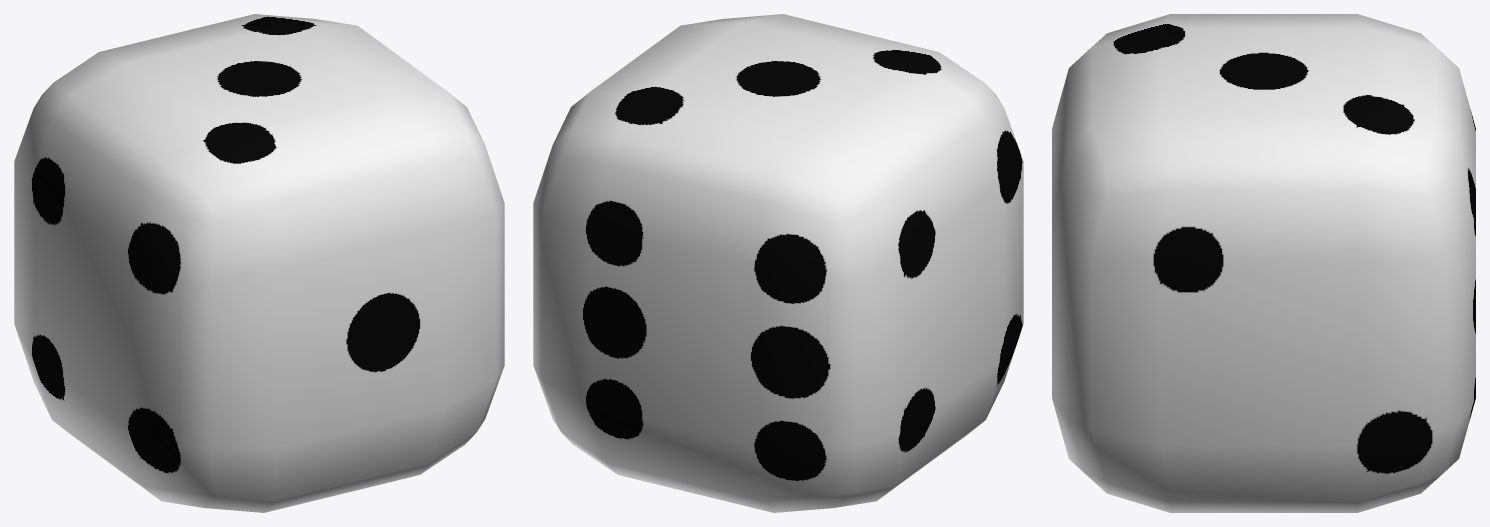
The model's file is die_scene.glb.
3 views of the same model, side by side, from view 1: azimuth 30°, elevation 25°; view 2: azimuth 150°, elevation 25°; view 3: azimuth 270°, elevation 25° (orthographic). The views are drawn at different scales.
Parts seen in each view (by area): view 1: Cube.001; view 2: Cube.001; view 3: Cube.001.
Boxes of the visible parts, x1=… form: Cube.001: x1=14, y1=14, x2=504, y2=512; Cube.001: x1=533, y1=14, x2=1023, y2=512; Cube.001: x1=1052, y1=14, x2=1475, y2=512.
Size of the model in its own units: 1 by 1 by 1.
1 material, 1 textured.
